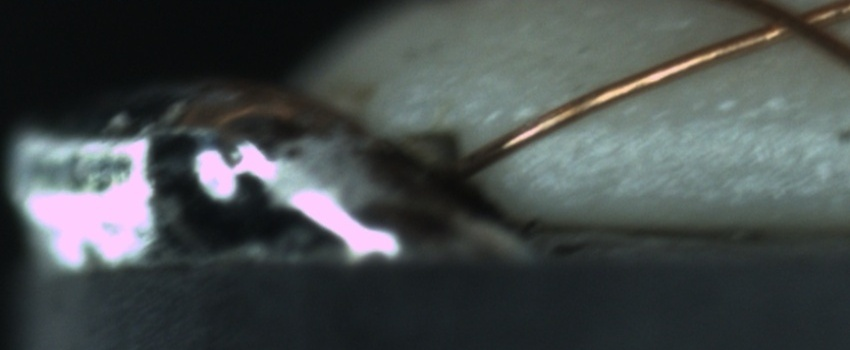CL: (745, 1, 836, 48)
DL: (553, 90, 844, 151)
